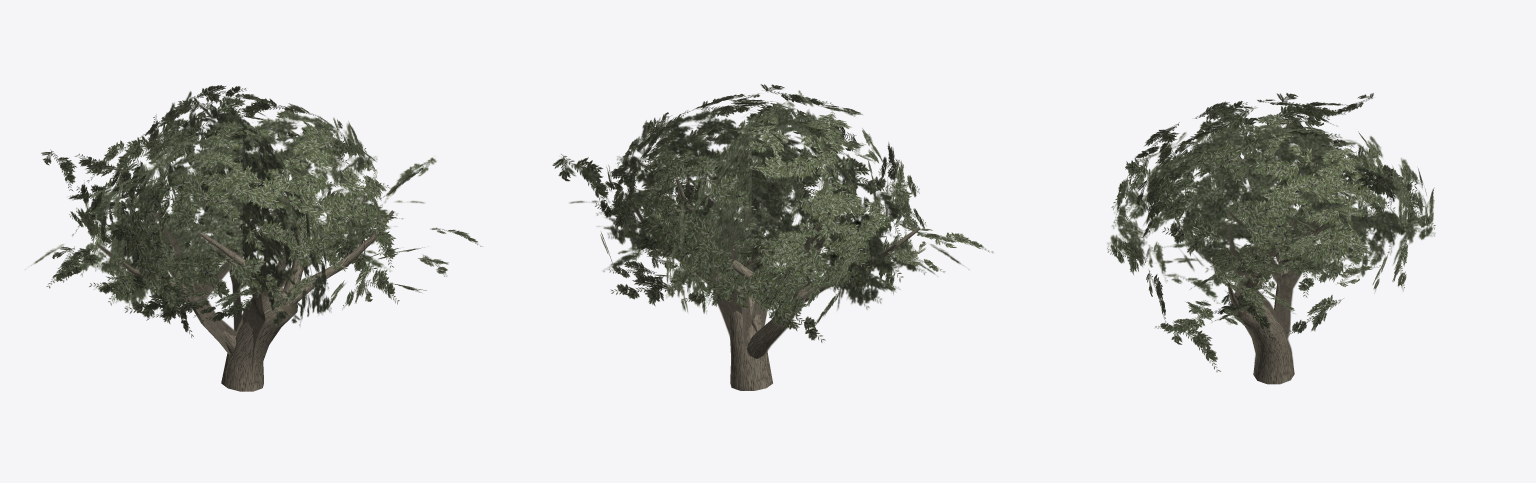
The model's file is tree_olive.glb.
3 renders of one model, left to right at view 1: azimuth 30°, elevation 25°; view 2: azimuth 150°, elevation 25°; view 3: azimuth 270°, elevation 25°, orthographic. The views are drawn at different scales.
Visible parts, largest first — view 1: crown, far, trunk; view 2: crown, far, trunk; view 3: crown, far, trunk.
Part boxes in pixels (bbox=[...]): crown: bbox=[41, 85, 482, 337]; far: bbox=[25, 91, 436, 379]; trunk: bbox=[121, 176, 394, 391]; crown: bbox=[552, 84, 993, 342]; far: bbox=[558, 90, 969, 379]; trunk: bbox=[653, 178, 920, 390]; crown: bbox=[1107, 93, 1435, 371]; far: bbox=[1107, 122, 1435, 362]; trunk: bbox=[1227, 145, 1325, 384].
Size of the model in its own units: 7.18 by 4.12 by 7.18.
Materials: 3 (3 with a texture image).
